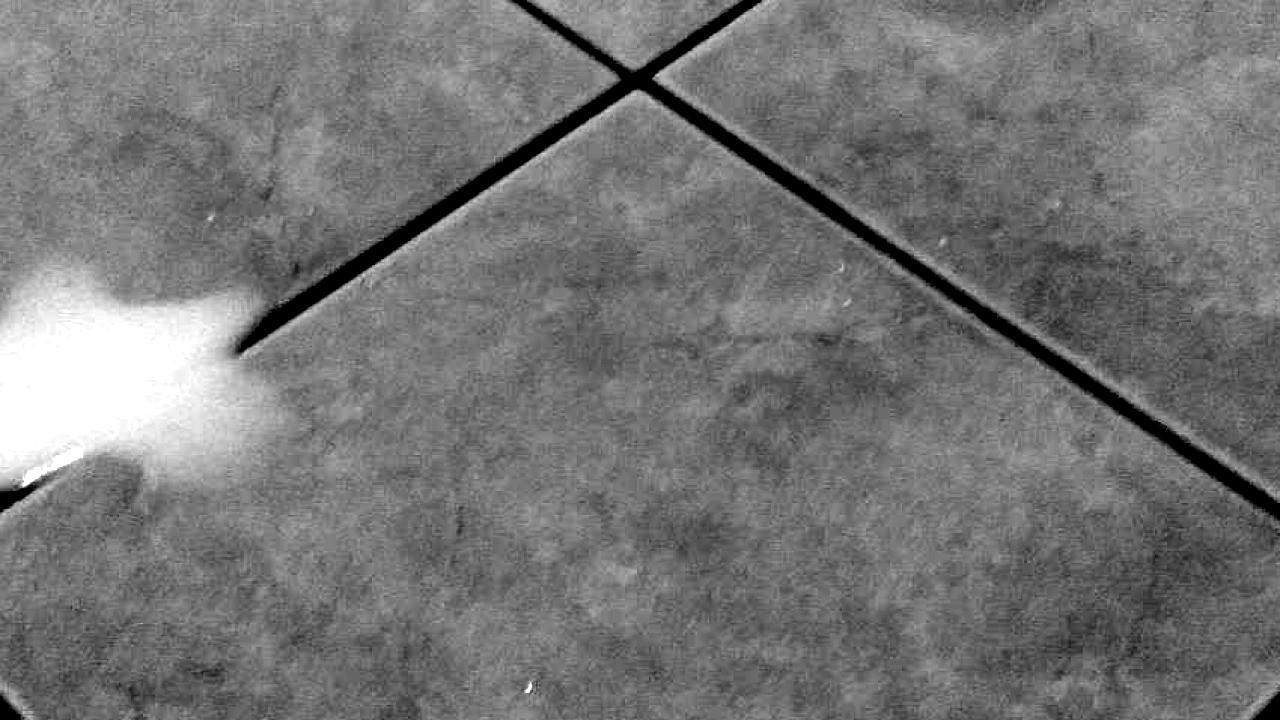drinks Stains: (0, 269, 280, 539)
